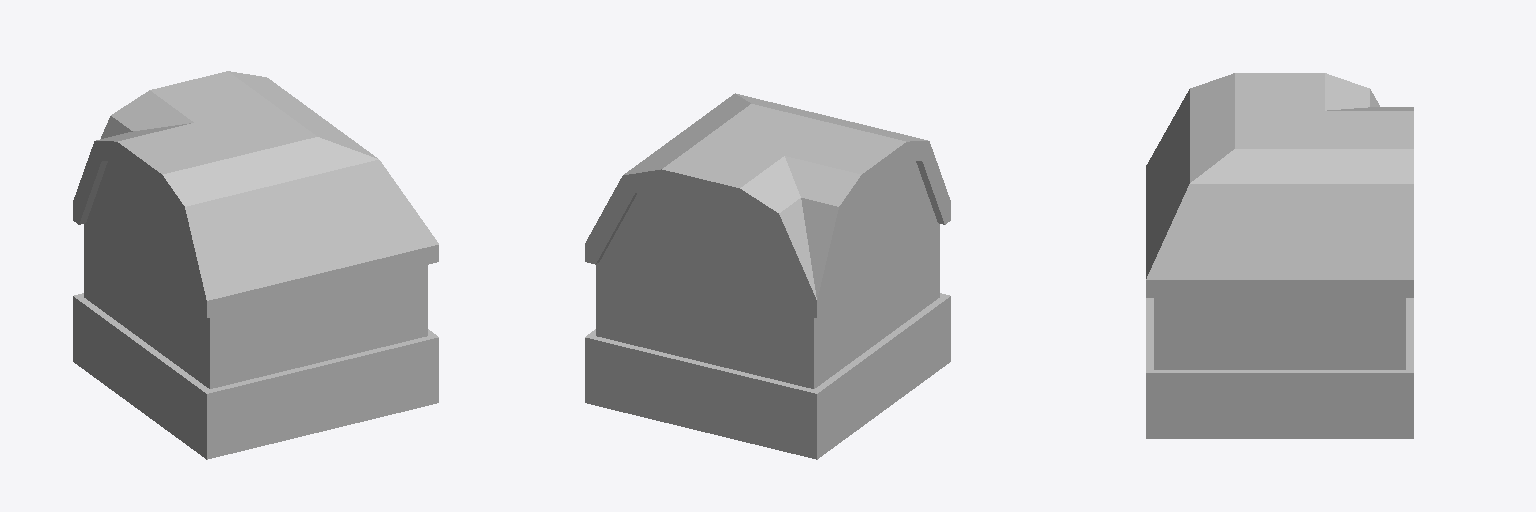
File: buildingCorner.obj
3 renders of one model, left to right at view 1: azimuth 30°, elevation 25°; view 2: azimuth 150°, elevation 25°; view 3: azimuth 270°, elevation 25°, orthographic.
Parts seen in each view (by area): view 1: buildingCorner; view 2: buildingCorner; view 3: buildingCorner.
Boxes of the visible parts, <box> form: buildingCorner: <box>73,71,438,459</box>; buildingCorner: <box>585,93,950,459</box>; buildingCorner: <box>1146,73,1413,438</box>.
Bounding box in the file's own units: 10 × 10.37 × 10.